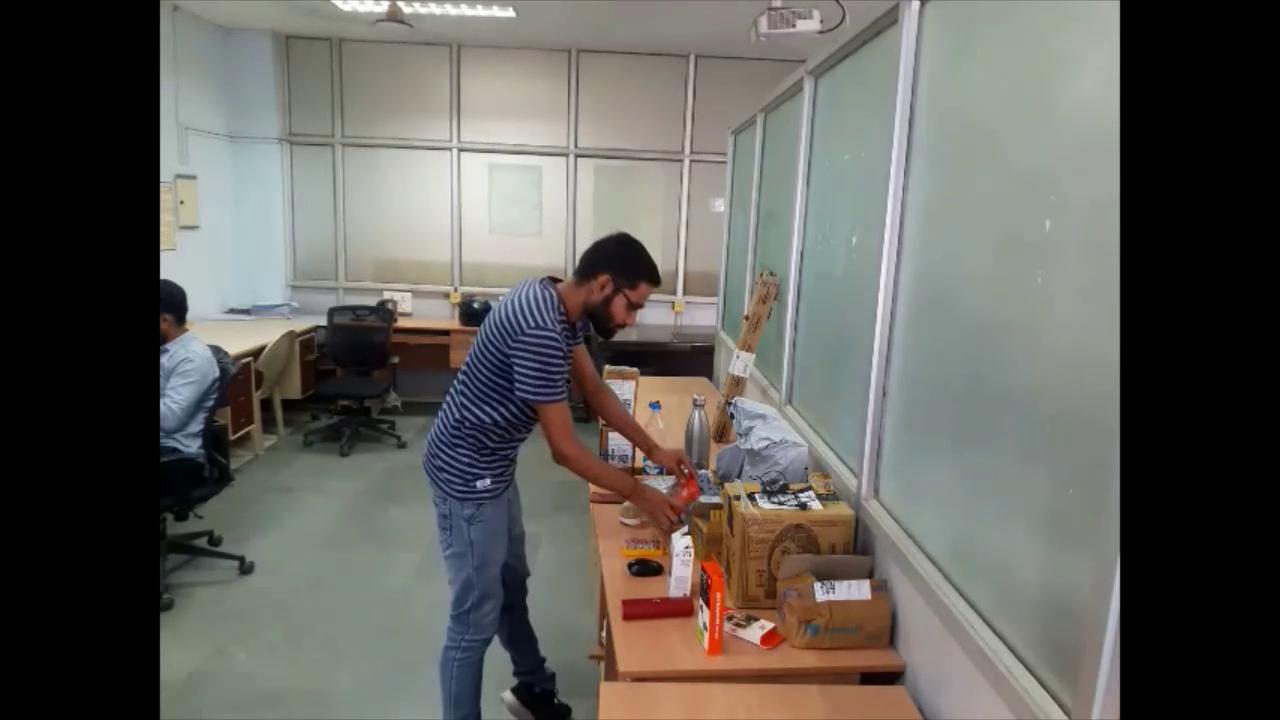Normal: (419, 162, 698, 715)
